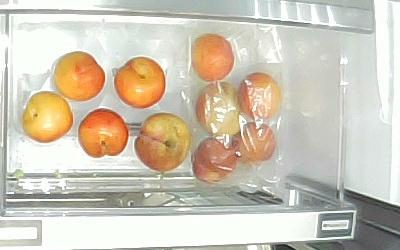prune: (135, 113, 191, 172), (113, 56, 166, 109), (21, 92, 73, 144), (53, 51, 106, 102), (78, 108, 130, 159)
prune_vinyl: (196, 82, 241, 136), (190, 33, 235, 82), (193, 136, 238, 184), (238, 72, 282, 120), (233, 121, 277, 166)
